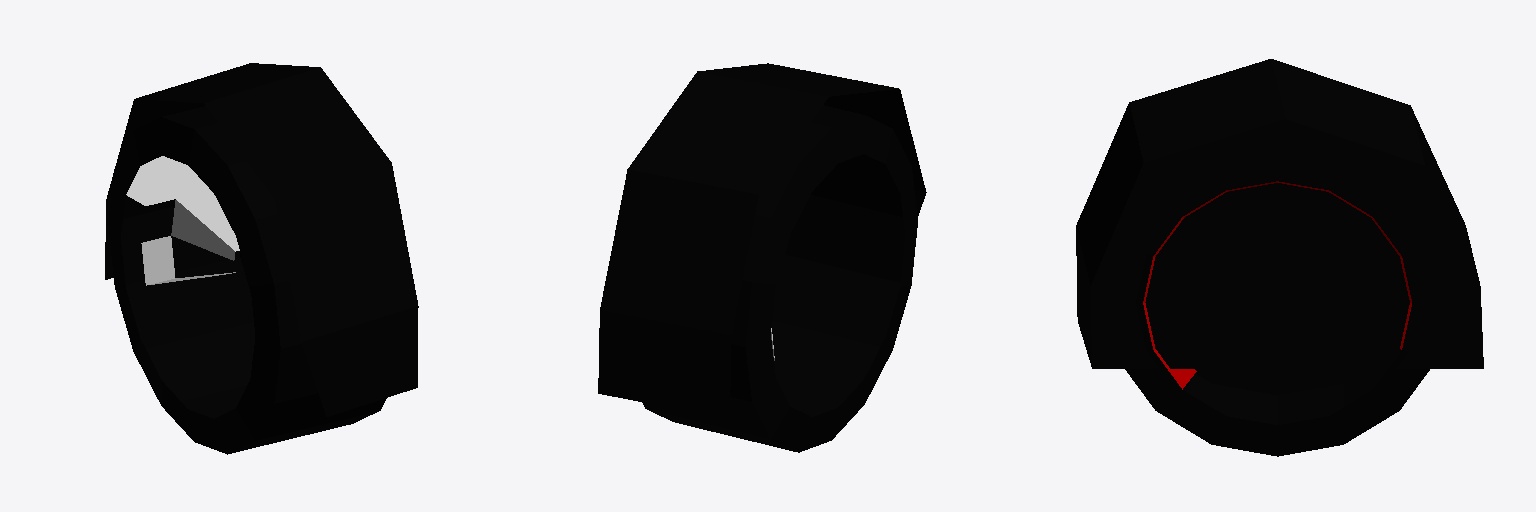
The model's file is carLeftTire.obj.
The picture shows the model from 3 angles: view 1: azimuth 30°, elevation 25°; view 2: azimuth 150°, elevation 25°; view 3: azimuth 270°, elevation 25°; orthographic projection.
Visible parts, largest first — view 1: leftTire_Cube.005; view 2: leftTire_Cube.005; view 3: leftTire_Cube.005.
Part boxes in pixels (x1,y1,x2,y2): leftTire_Cube.005: (105, 63, 418, 454); leftTire_Cube.005: (598, 63, 926, 452); leftTire_Cube.005: (1076, 59, 1483, 456).
Bounding box in the file's own units: 0.3232 × 0.761 × 0.8272.